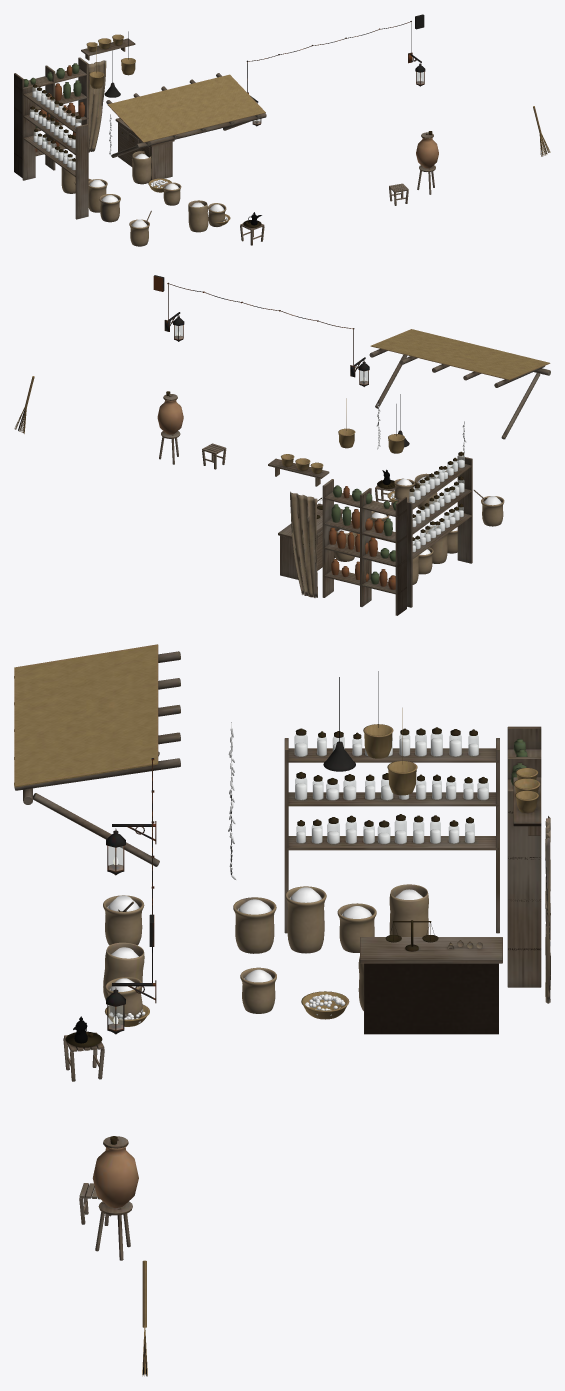
The model's file is souq_heroprops.glb.
The picture shows the model from 3 angles, top to bottom: view 1: azimuth 30°, elevation 25°; view 2: azimuth 150°, elevation 25°; view 3: azimuth 270°, elevation 25°; orthographic projection. The views are drawn at different scales.
Visible parts, largest first — view 1: GX_heroprops_LOD0, GX_heroprops_GLASS; view 2: GX_heroprops_LOD0, GX_heroprops_GLASS; view 3: GX_heroprops_LOD0, GX_heroprops_GLASS.
Part boxes in pixels (left/top/right/bottom): GX_heroprops_LOD0: left=14, top=14, right=550, bottom=246; GX_heroprops_GLASS: left=29, top=72, right=423, bottom=170; GX_heroprops_LOD0: left=14, top=275, right=550, bottom=615; GX_heroprops_GLASS: left=174, top=325, right=464, bottom=552; GX_heroprops_LOD0: left=14, top=644, right=550, bottom=1376; GX_heroprops_GLASS: left=108, top=733, right=488, bottom=1029.
Size of what is drawn, in the model's own units: 10.55 by 3.86 by 5.56.
3 materials, 1 textured.
